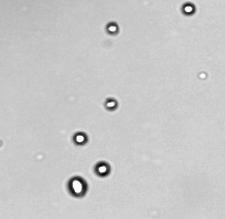Living Cell: (68, 175, 87, 197), (95, 162, 110, 176), (181, 1, 196, 15), (73, 132, 87, 145), (104, 98, 117, 110), (106, 22, 118, 35)
